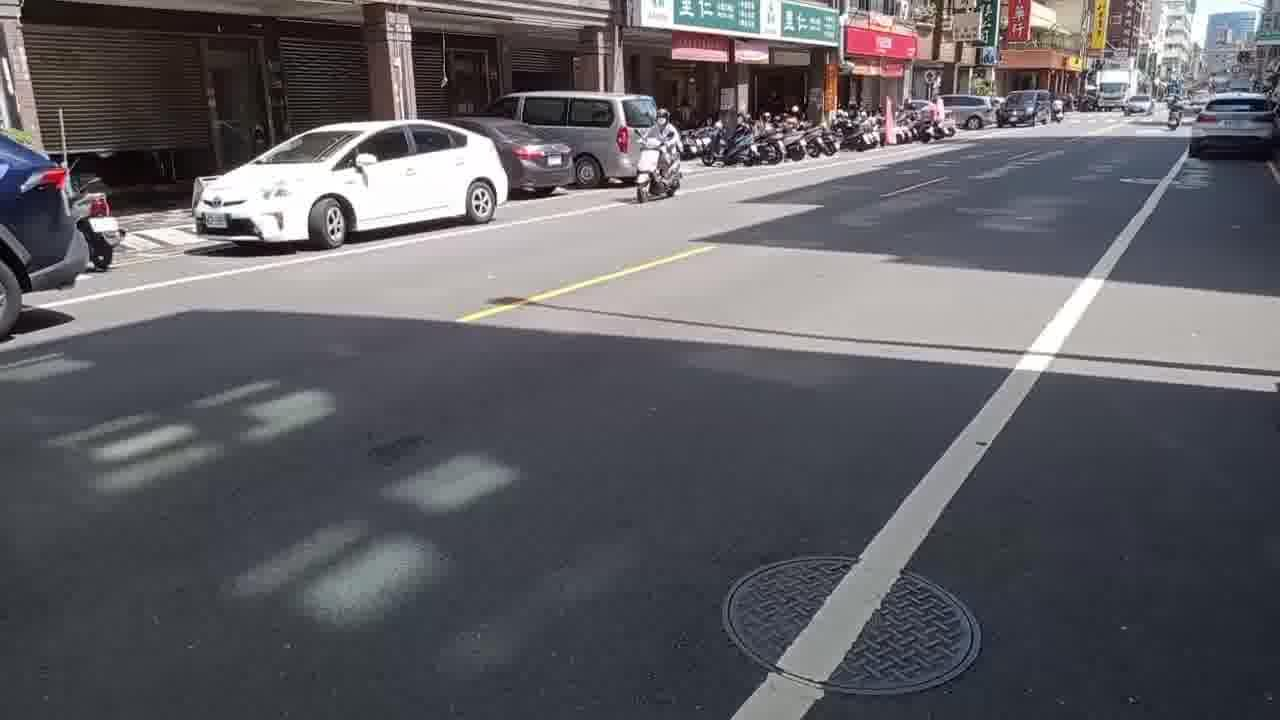driver: (627, 103, 689, 208)
